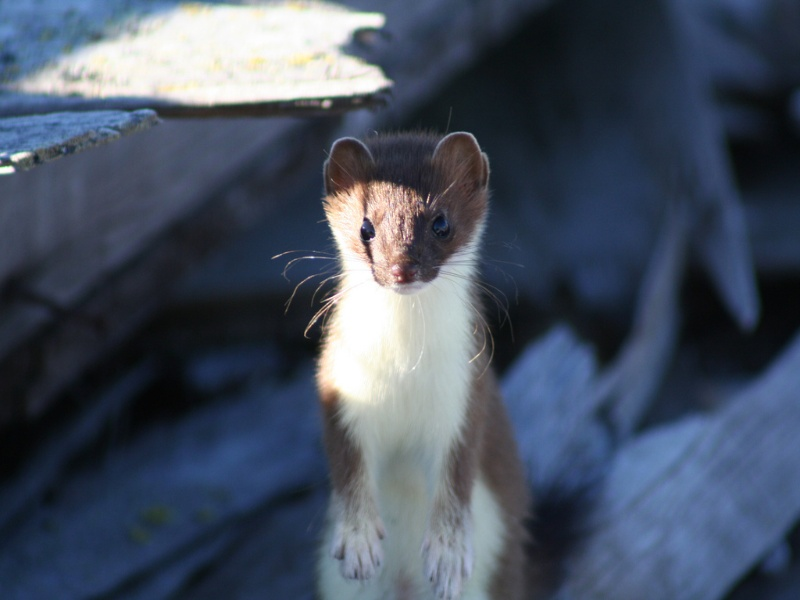minkish: (283, 127, 544, 594)
